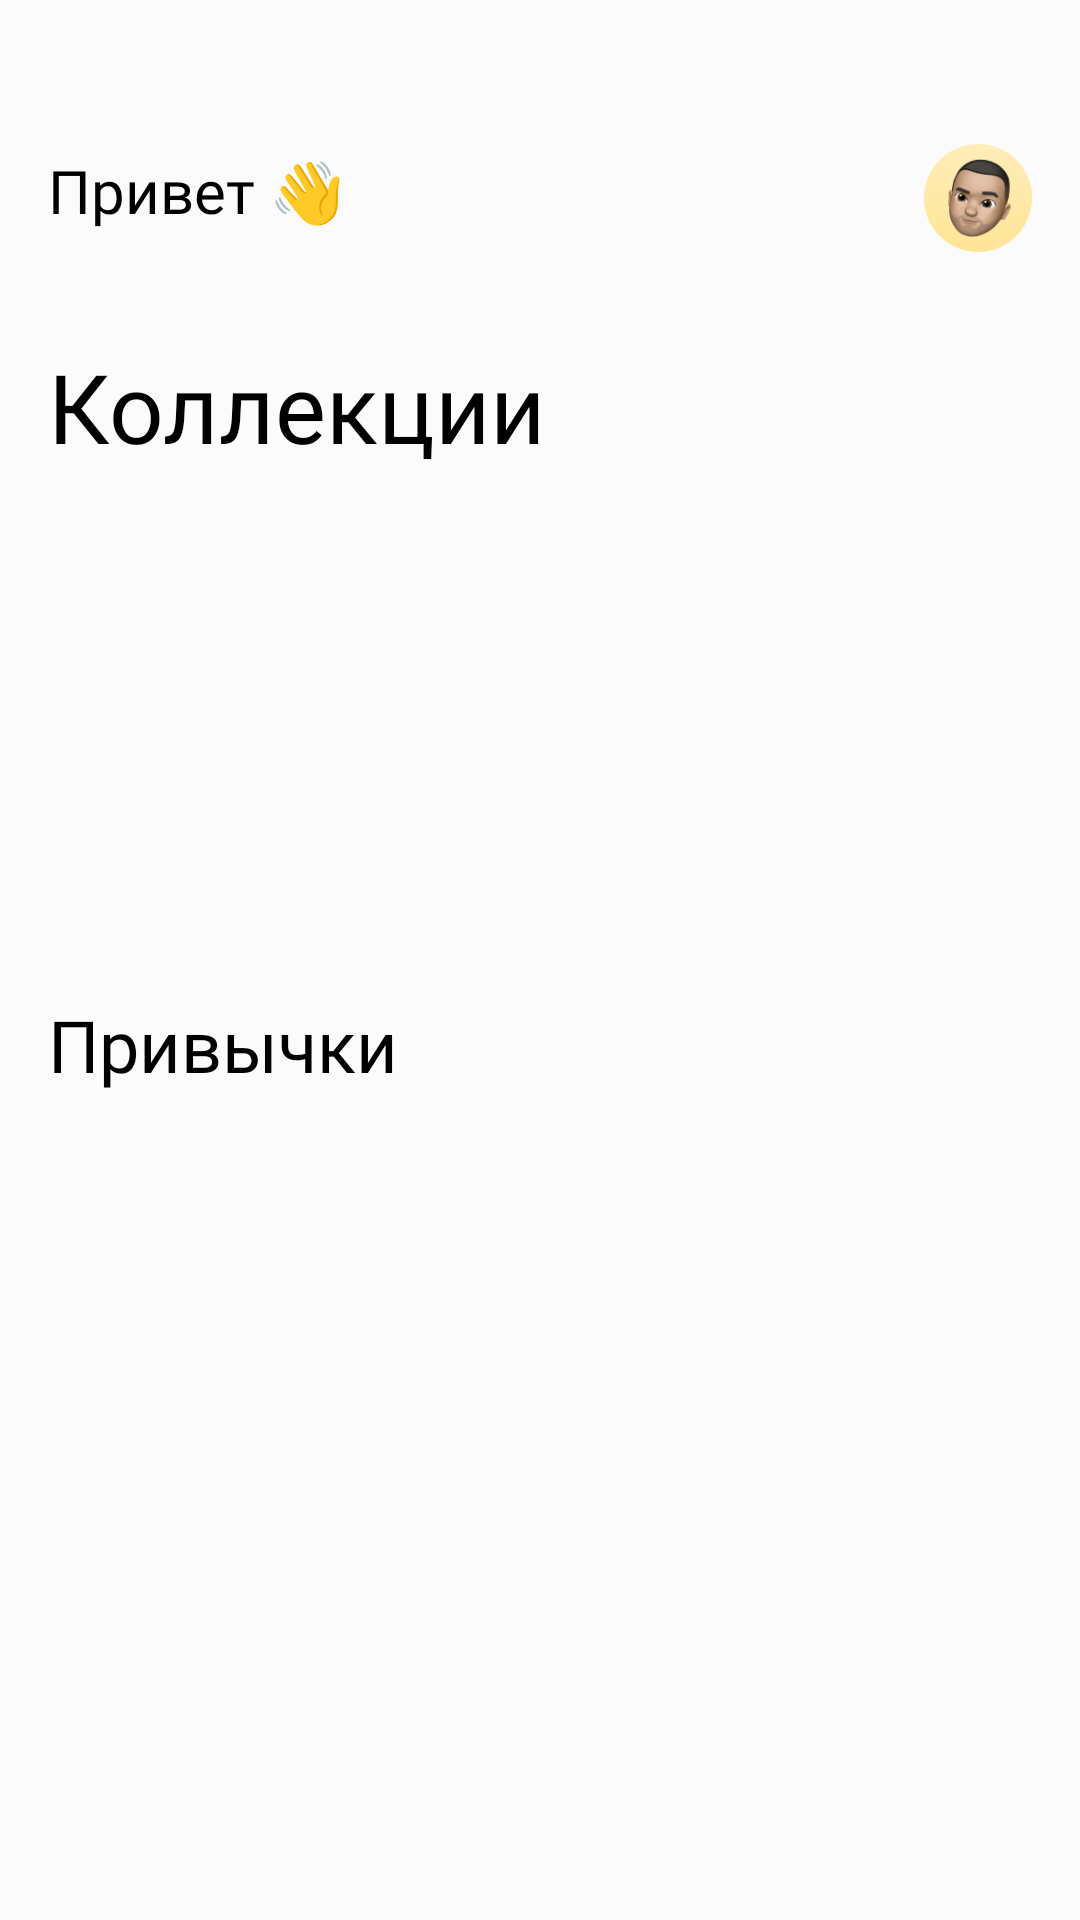

Icon click points for this 1080*1920 phone screenshot, format (x=x, y=y):
person: (x=978, y=198)
